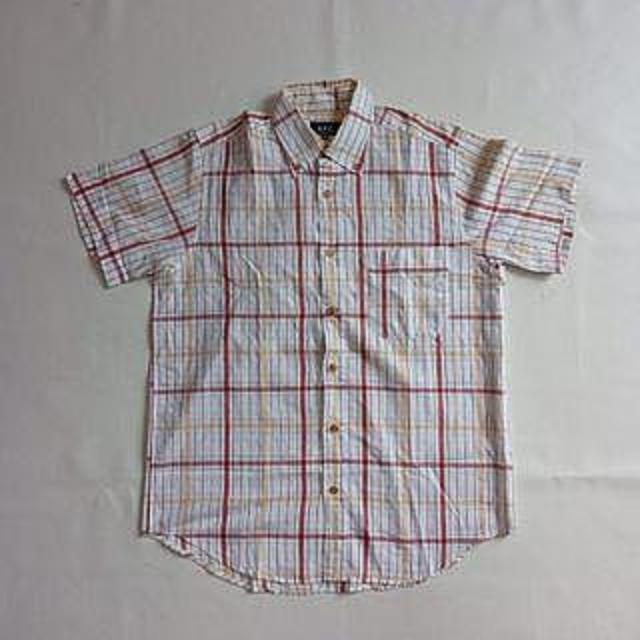SHIRT: (57, 72, 604, 599)
